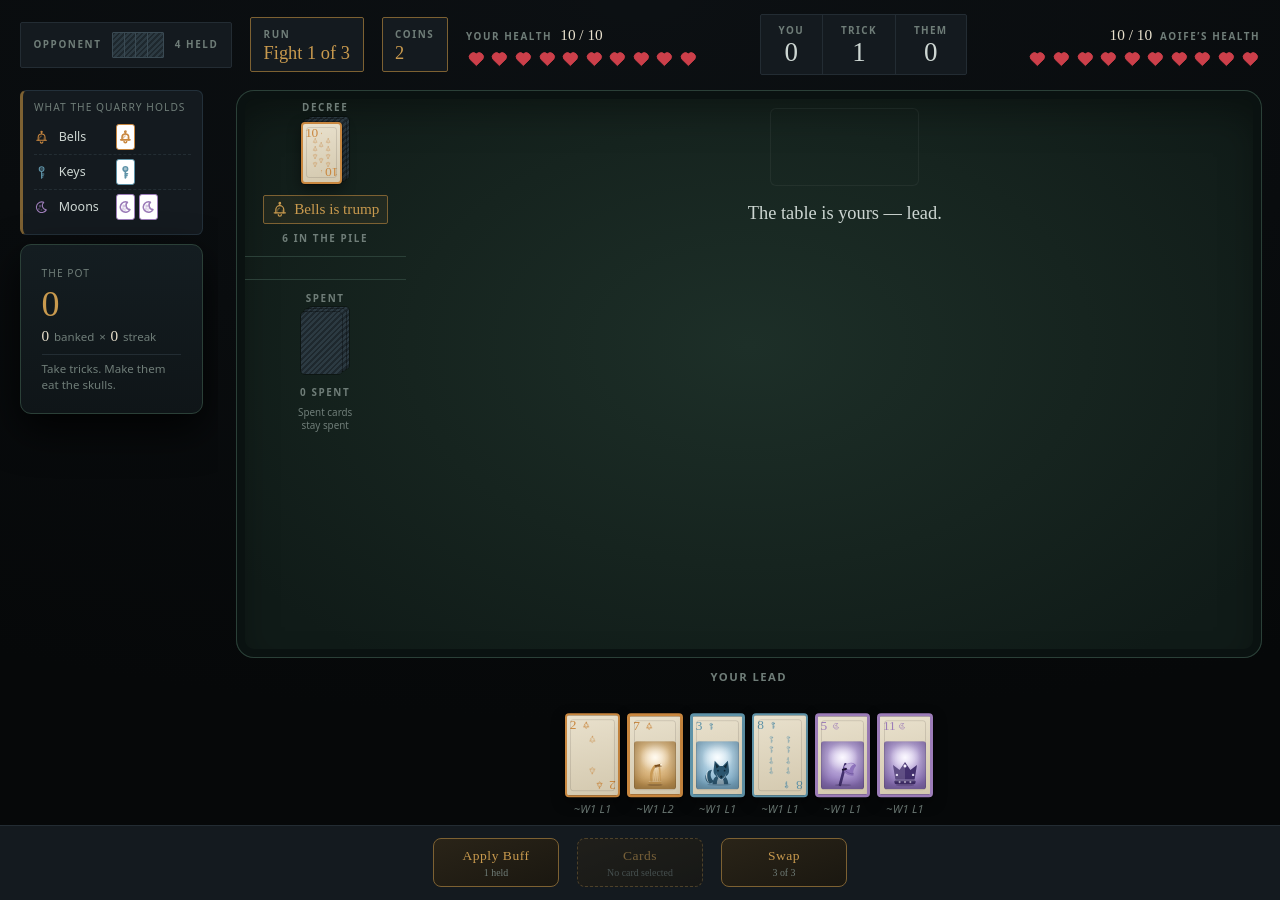
Test: WarCouncilRound — buff ride wiring (DLR-153 Task 15) › removing a buff returns the card to the gallery, clears every badge, and announces what went dark (AC10)
Step 1. Click the button "Apply Buff 1 held" → (496,863), box left=433, top=838, right=559, bottom=887
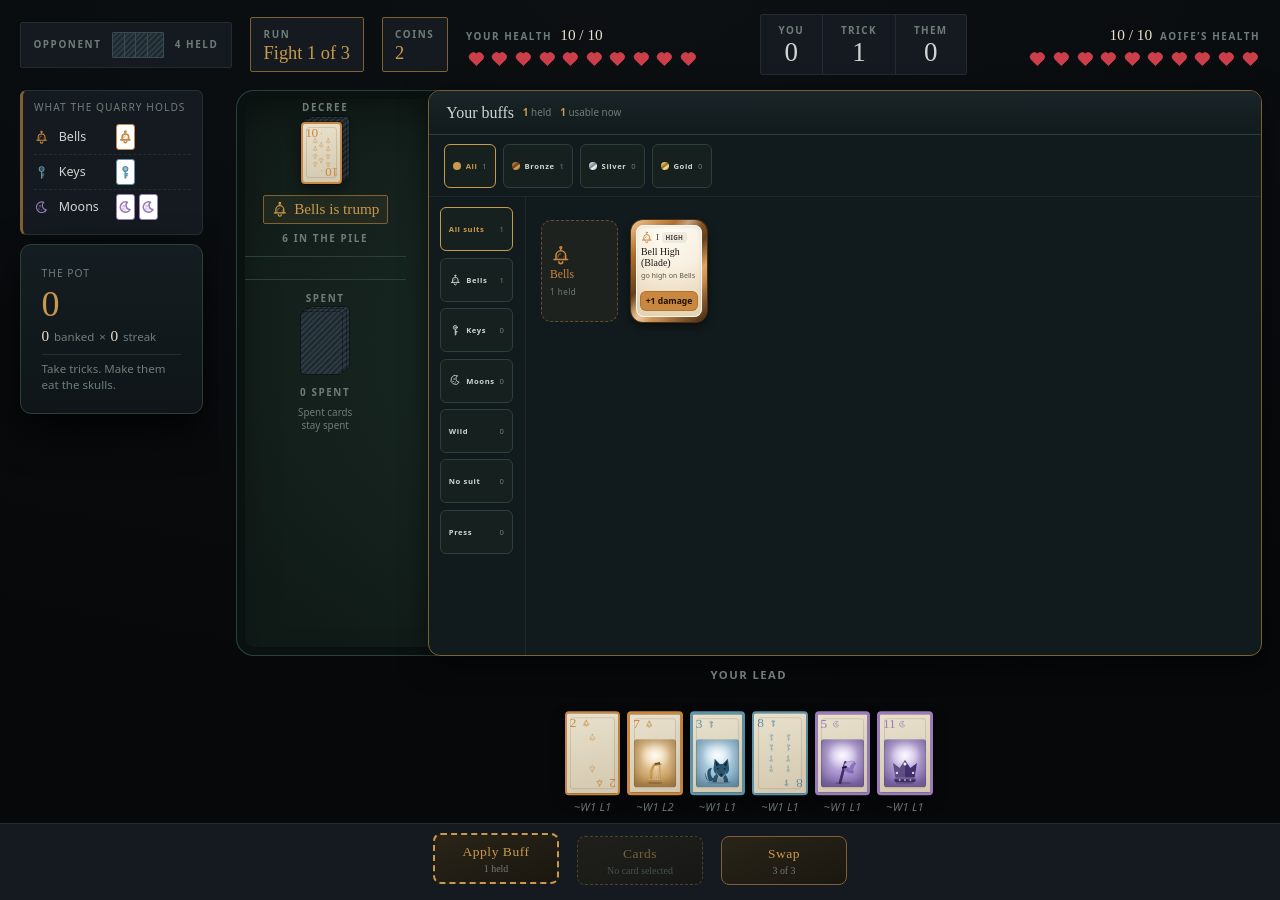
Step 2. Click the button "I HIGH Bell High (Blade) go high on Bells +1 damage" → (669,271), box left=631, top=220, right=707, bottom=322
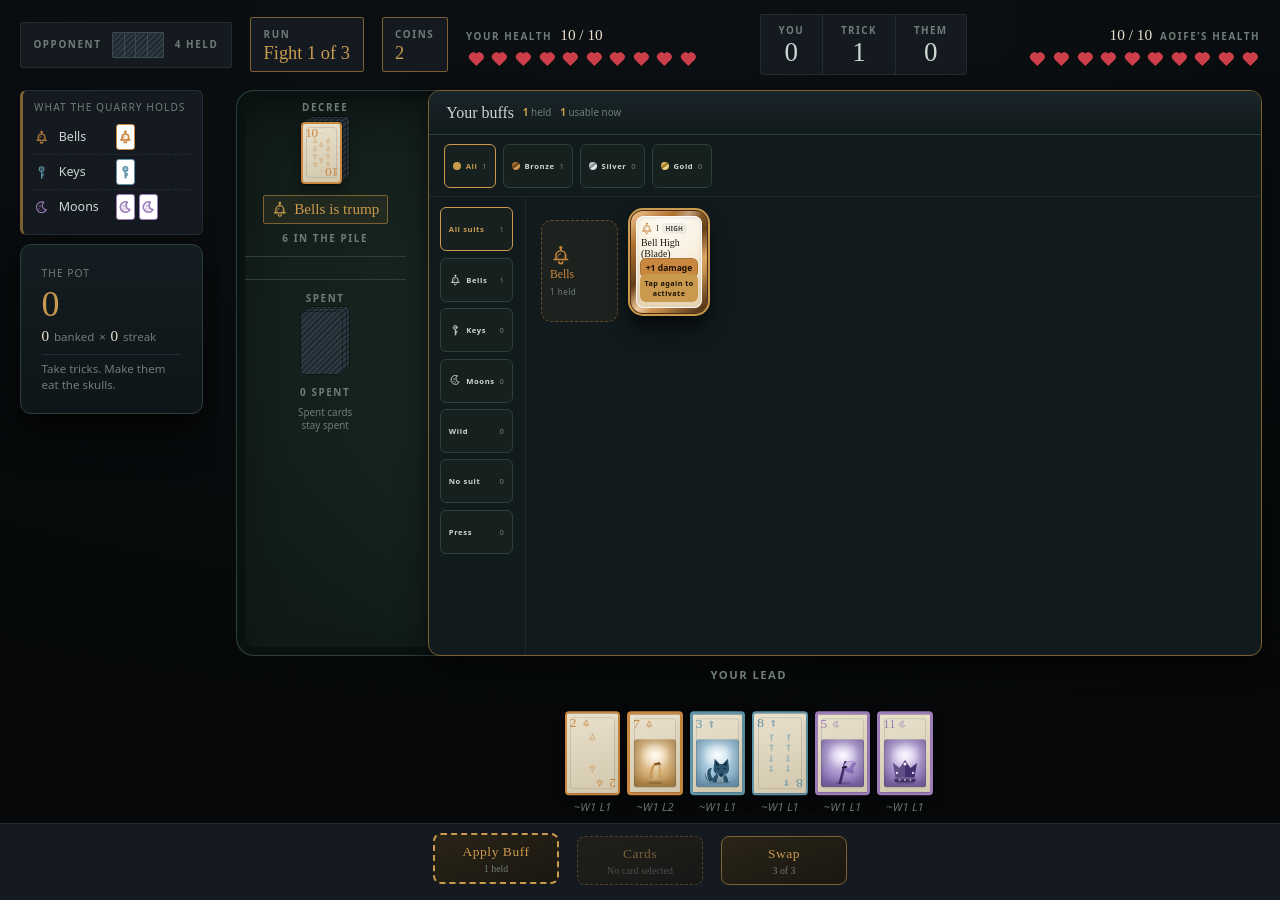
Step 3. Click the button "Bell High" → (669,262), box left=631, top=211, right=707, bottom=313
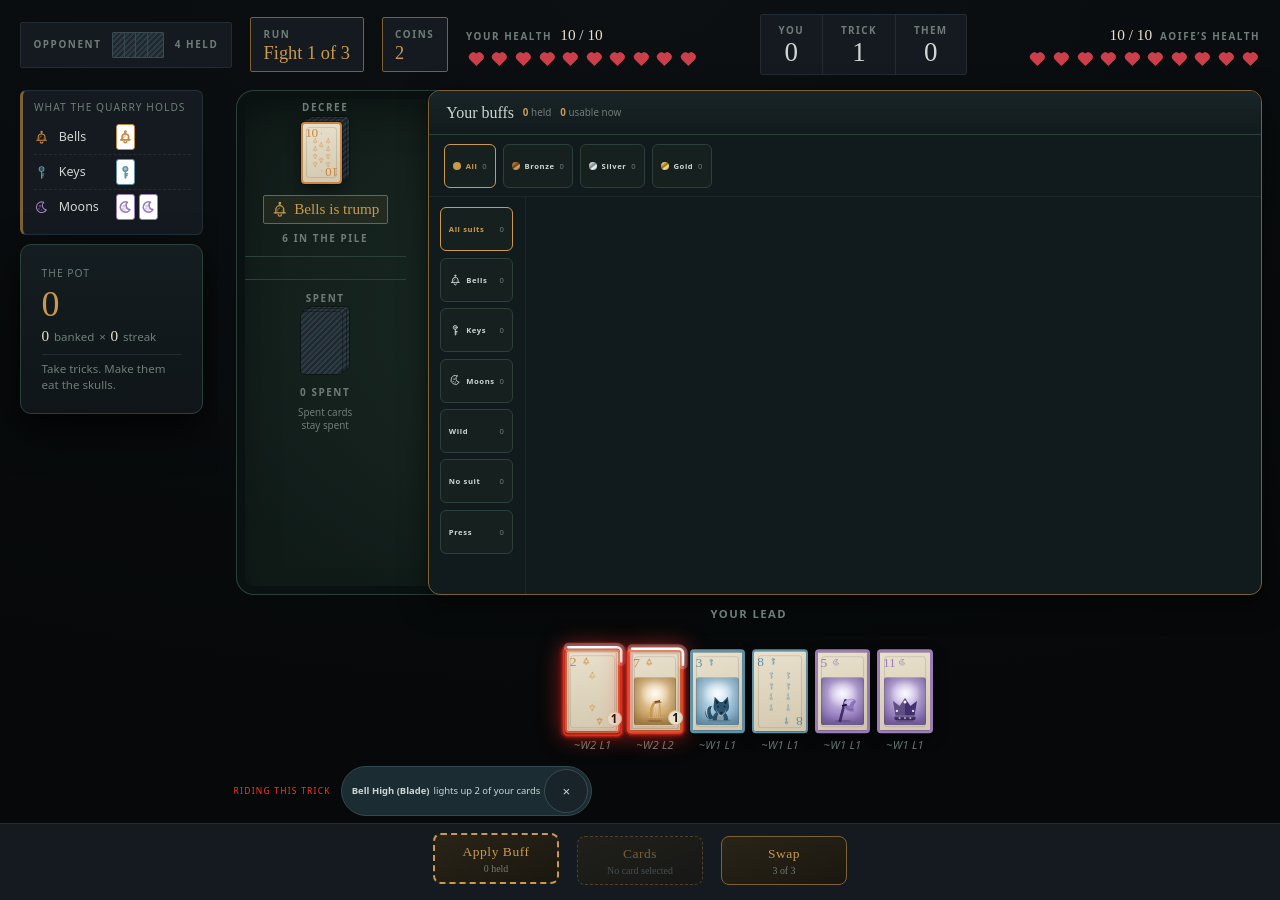
Step 4. Click the button named "off the trick" → (566,791), box left=544, top=769, right=588, bottom=813
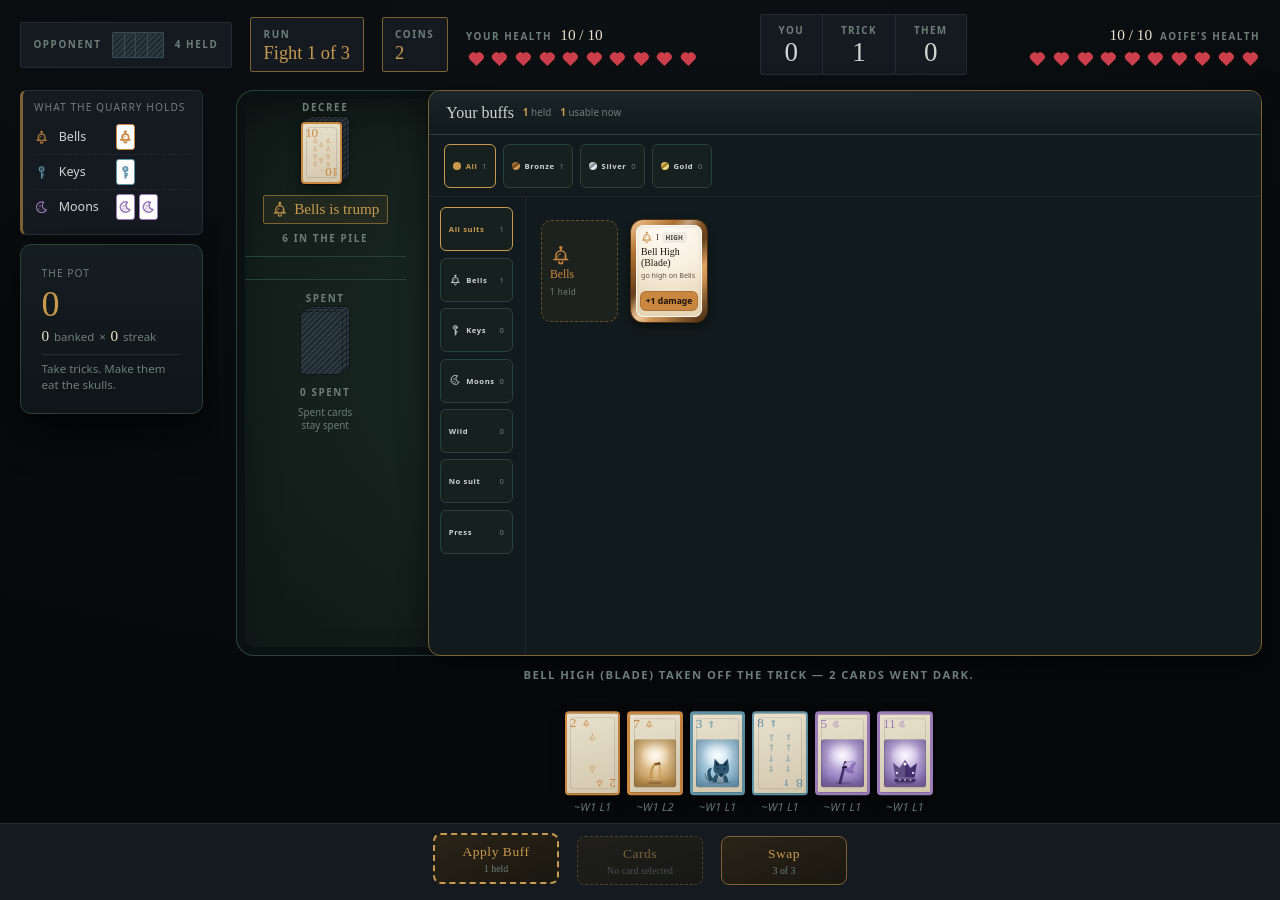
Now the text "Riding this trick" is gone
Now the text "Bell High (Blade) taken off the trick — 2 cards went dark." is shown, box left=524, top=667, right=974, bottom=682
